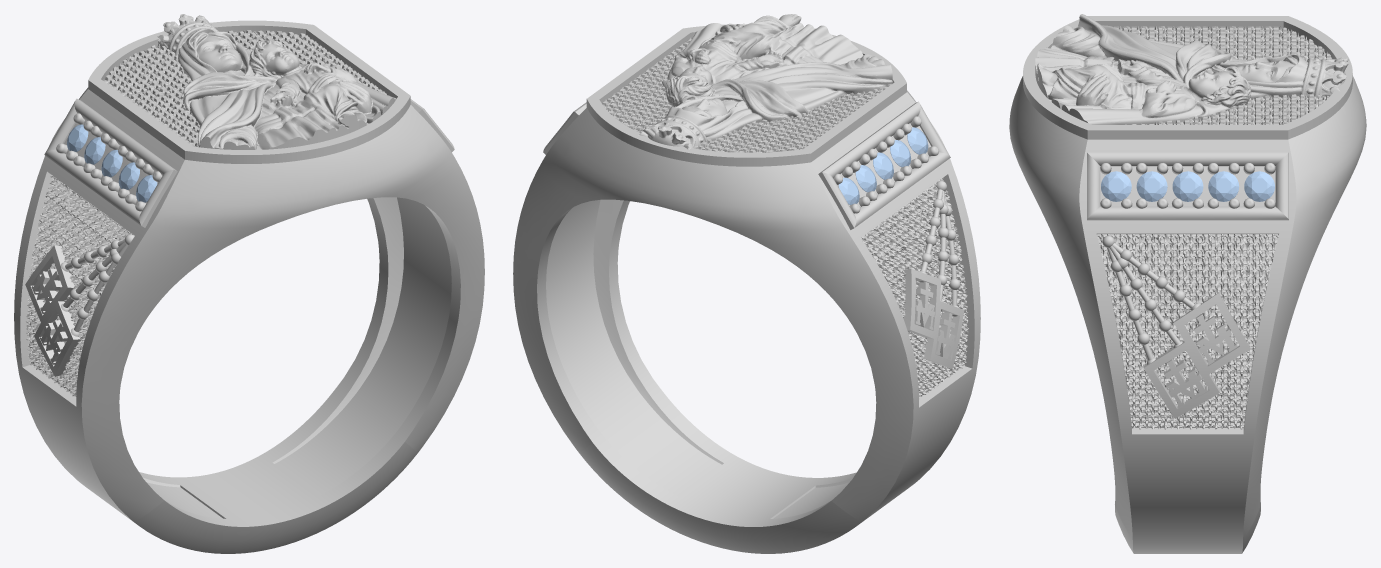
3 views of the same model, side by side, from view 1: azimuth 30°, elevation 25°; view 2: azimuth 150°, elevation 25°; view 3: azimuth 270°, elevation 25° (orthographic). The views are drawn at different scales.
Visible parts, largest first — view 1: anillo virgen.3dm, COLOR= MATERIAL= (×3), Metal Piece; view 2: anillo virgen.3dm, COLOR= MATERIAL= (×3), Metal Piece; view 3: anillo virgen.3dm, COLOR= MATERIAL= (×3), Metal Piece, GemOnCrv (×5).
Boxes of the visible parts, x1,y1,x2,y2 form: anillo virgen.3dm: (14, 20, 484, 553); COLOR= MATERIAL= (×3): (26, 14, 396, 396); Metal Piece: (44, 98, 177, 227); anillo virgen.3dm: (513, 24, 980, 553); COLOR= MATERIAL= (×3): (602, 14, 968, 399); Metal Piece: (818, 101, 950, 229); anillo virgen.3dm: (1009, 16, 1366, 553); COLOR= MATERIAL= (×3): (1035, 14, 1348, 429); Metal Piece: (1087, 152, 1288, 220); GemOnCrv (×5): (1101, 171, 1274, 201).
Bounding box in the file's own units: 2.4 × 2.66 × 1.78.
